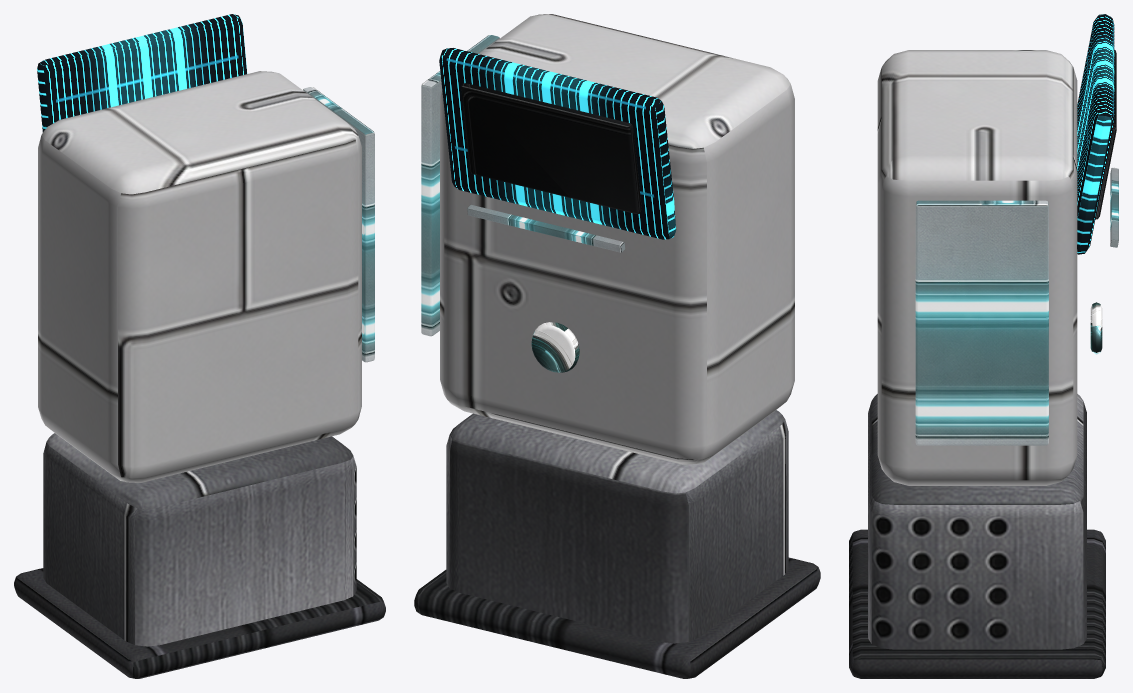
The model's file is hp_l4_cineclinic_triage_kiosk.glb.
3 views of the same model, side by side, from view 1: azimuth 30°, elevation 25°; view 2: azimuth 150°, elevation 25°; view 3: azimuth 270°, elevation 25° (orthographic). The views are drawn at different scales.
Parts seen in each view (by area): view 1: white_upper_shell, tapered_base, tilted_screen, base_rubber_foot, cyan_side_slit; view 2: white_upper_shell, tapered_base, tilted_screen, blank_black_screen_core, base_rubber_foot, cyan_side_slit, front_scan_lens, screen_lower_cyan_rule; view 3: white_upper_shell, tapered_base, cyan_side_slit, base_rubber_foot, tilted_screen, screen_lower_cyan_rule, blank_black_screen_core, front_scan_lens.
Boxes of the visible parts, box(x1,y1,x2,y2) form: white_upper_shell: box(38, 71, 361, 482); tapered_base: box(43, 433, 356, 646); tilted_screen: box(37, 14, 247, 132); base_rubber_foot: box(14, 568, 385, 678); cyan_side_slit: box(303, 87, 374, 362); white_upper_shell: box(440, 14, 794, 464); tapered_base: box(446, 410, 788, 643); tilted_screen: box(439, 48, 676, 239); blank_black_screen_core: box(461, 83, 641, 213); base_rubber_foot: box(414, 557, 820, 678); cyan_side_slit: box(421, 35, 499, 336); front_scan_lens: box(531, 322, 579, 372); screen_lower_cyan_rule: box(467, 204, 625, 252); white_upper_shell: box(877, 50, 1077, 485); tapered_base: box(868, 394, 1086, 649); cyan_side_slit: box(915, 200, 1048, 445); base_rubber_foot: box(849, 529, 1105, 678); tilted_screen: box(1077, 14, 1114, 254); screen_lower_cyan_rule: box(1110, 167, 1118, 247); blank_black_screen_core: box(1095, 50, 1116, 219); front_scan_lens: box(1090, 302, 1102, 354).
Bounding box in the file's own units: 0.704 × 1.29 × 0.5671.
7 materials, 7 textured.
